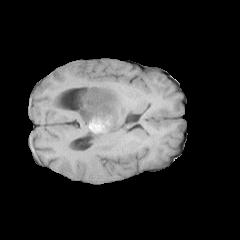glioma: (76, 82, 134, 136)
